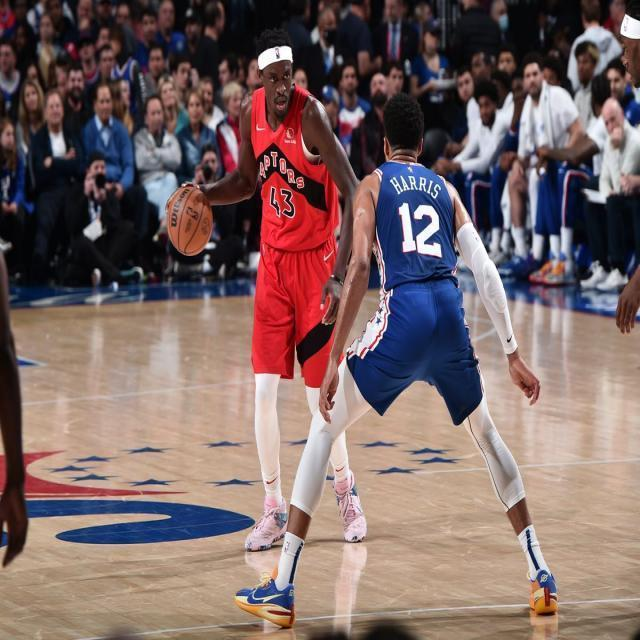ball: (167, 183, 214, 255)
